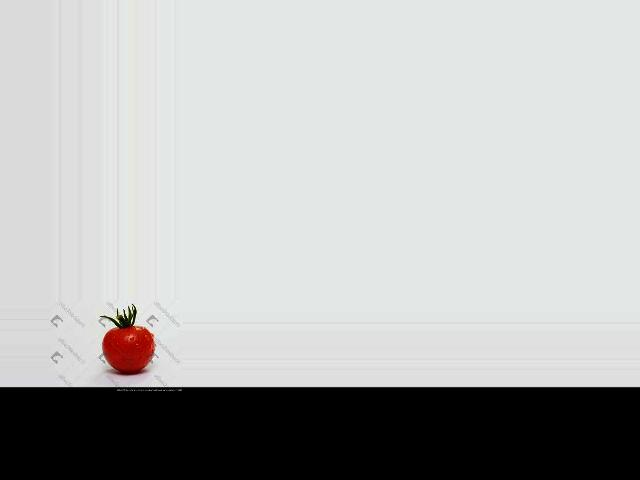tomato: (101, 327, 153, 372)
